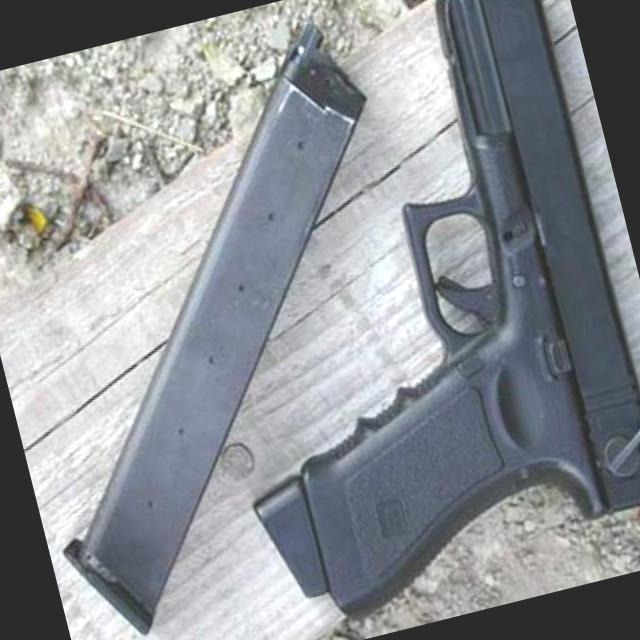handgun: (144, 0, 639, 629)
